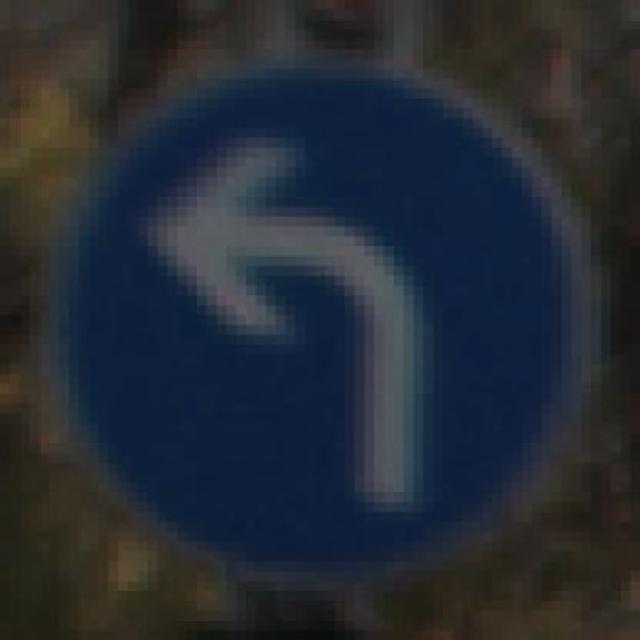Turn left ahead: (58, 49, 600, 552)
